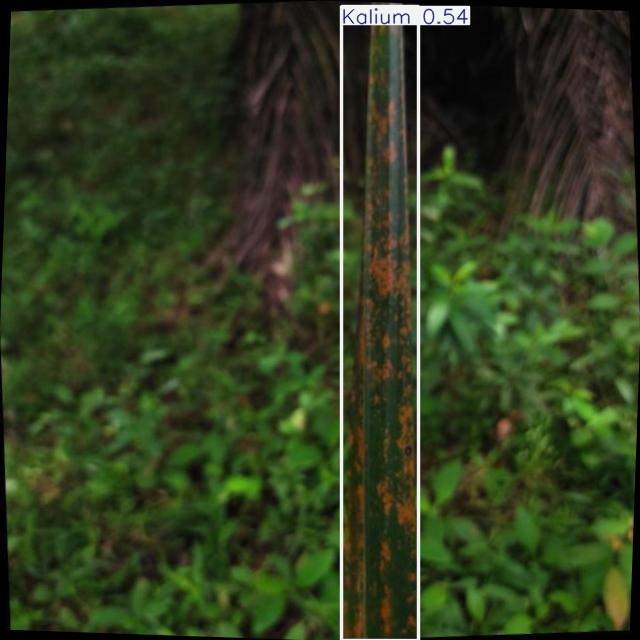Kalium: (341, 6, 418, 640)
